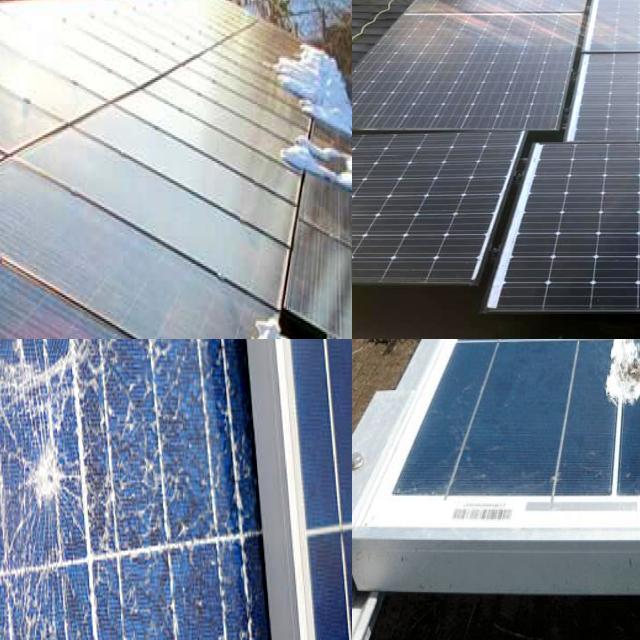bird: (604, 339, 640, 469)
dust: (524, 159, 640, 290), (352, 173, 472, 271)
hotspot: (0, 430, 101, 529), (0, 339, 106, 423)
panel: (272, 25, 352, 123), (286, 125, 352, 220)
